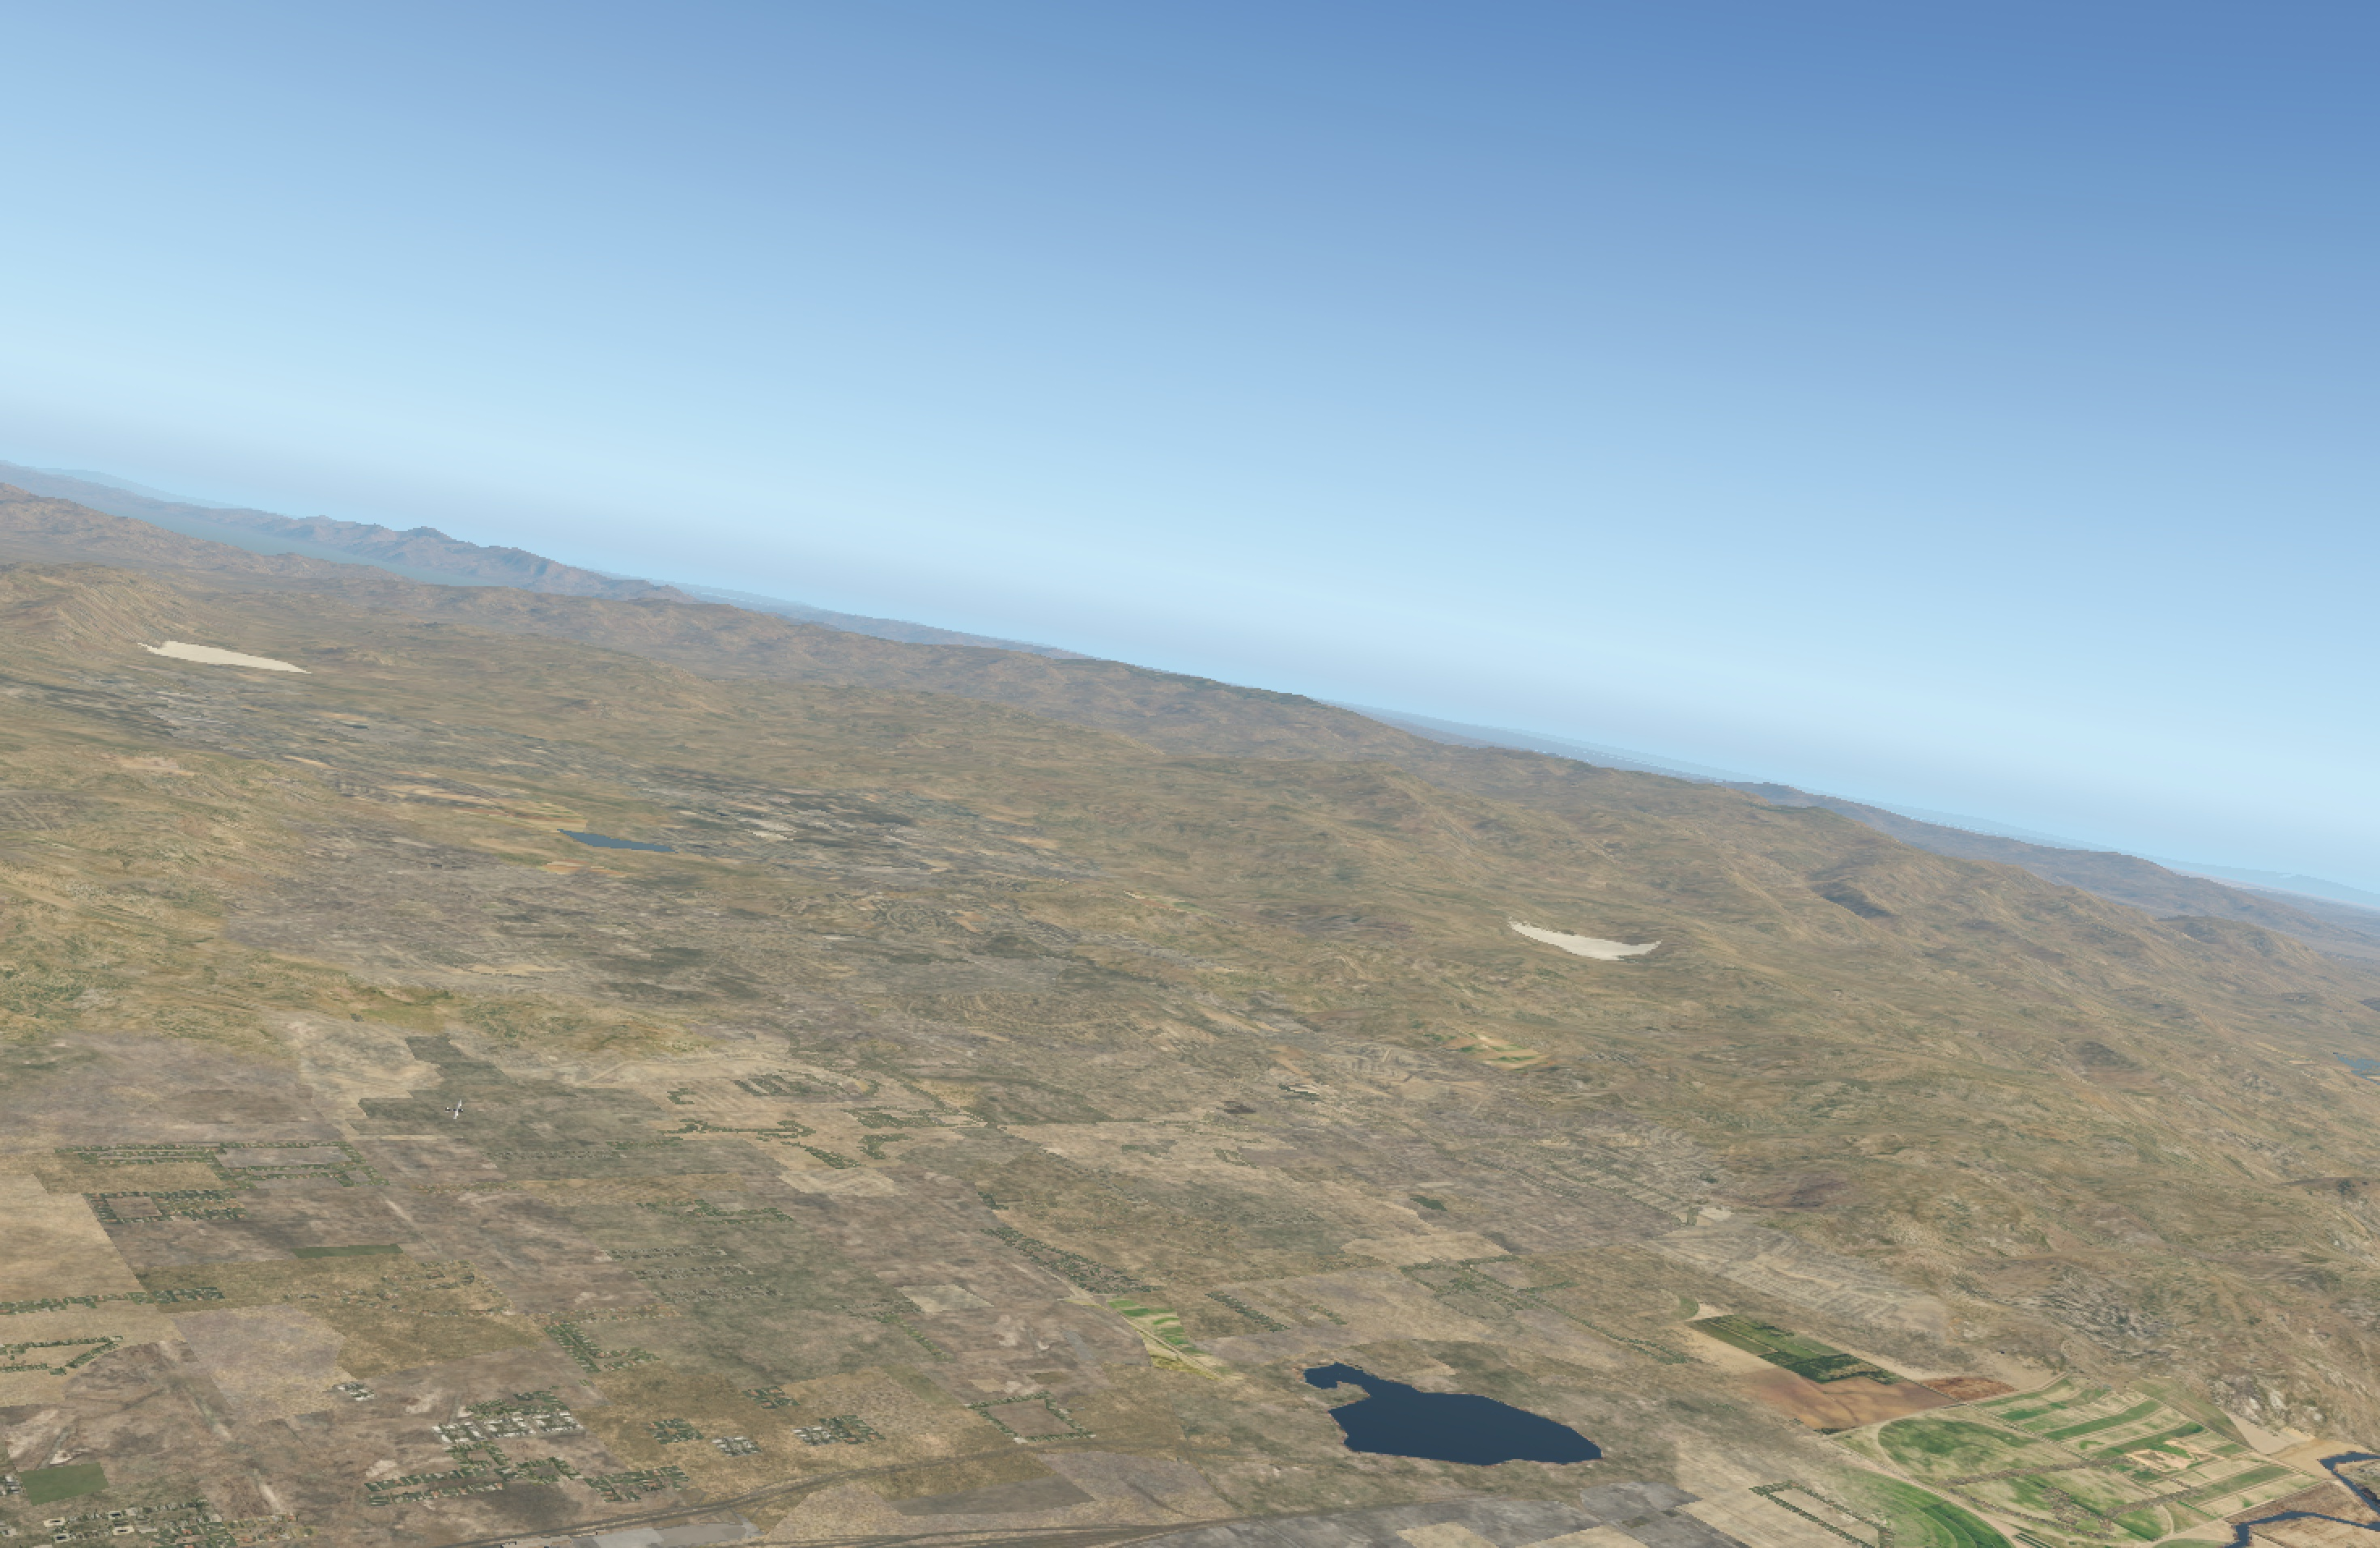aircraft: (449, 1107, 467, 1114)
